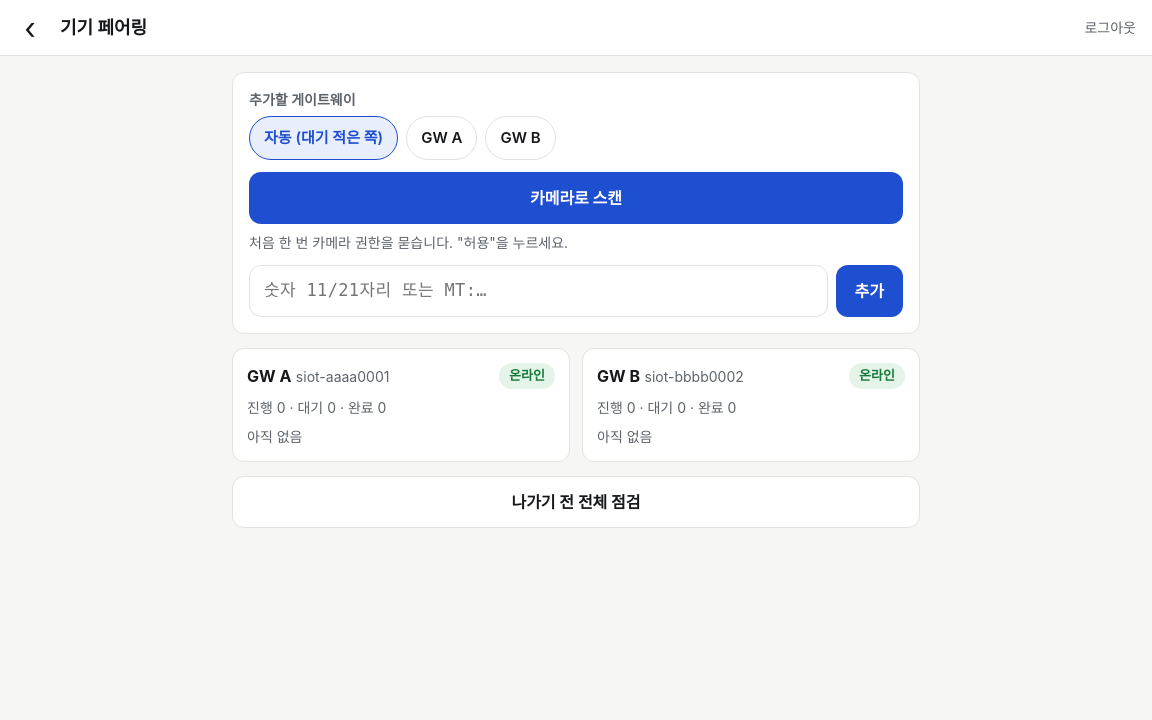
Scenario: 페어링 큐 (GW 별 직렬·GW 끼리 병렬, E2) › 같은 코드를 두 번 넣지 않는다
The image size is (1152, 720).
Expected: the element named "GW A 대기열" is shown, [232,348,570,462]
Type "34970112332" into the field named "기기 코드" at (538, 291), box [249,265,828,317]
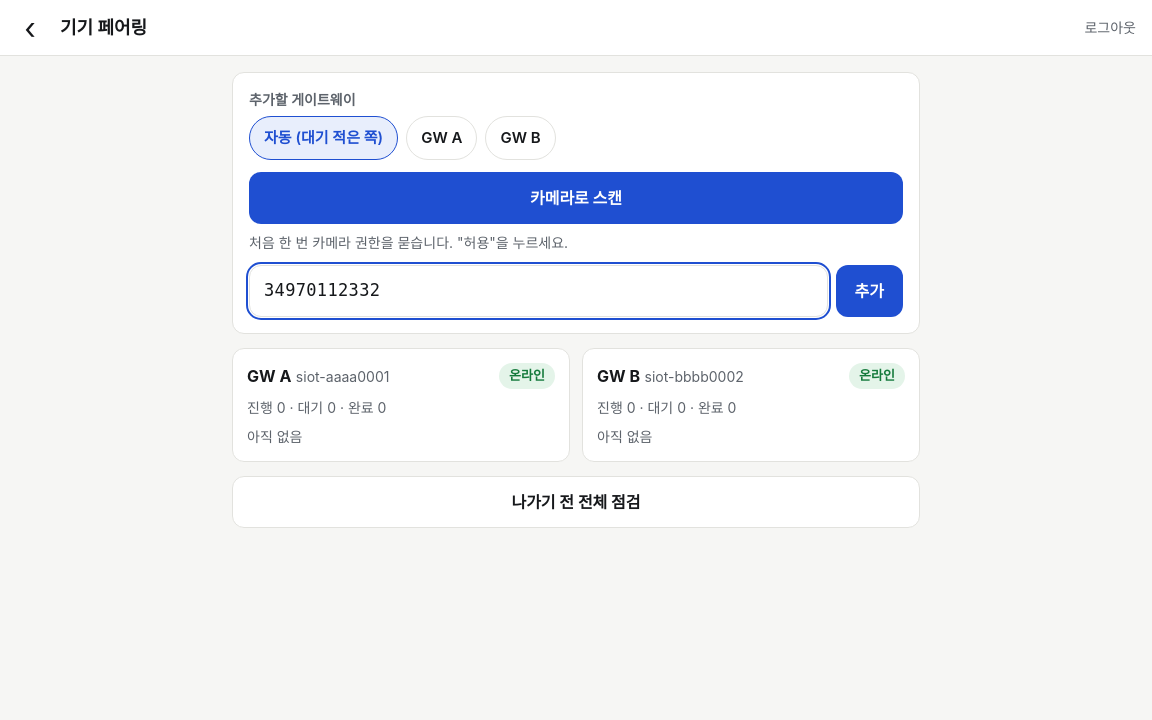
Click the button "추가" at (869, 291), box [836,265,903,317]
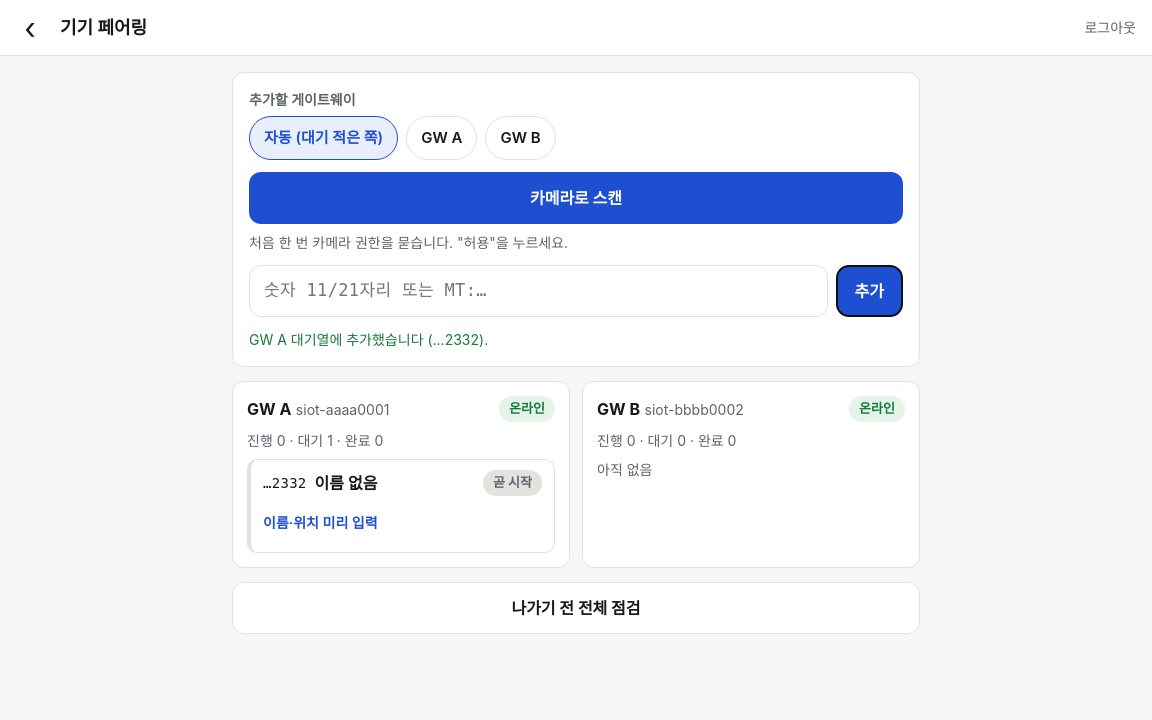
Expected: the text "GW A 대기열에 추가했습니다 (…2332)." is shown, [249,331,488,348]
Type "3497 011 2332" into the field named "기기 코드" at (538, 291), box [249,265,828,317]
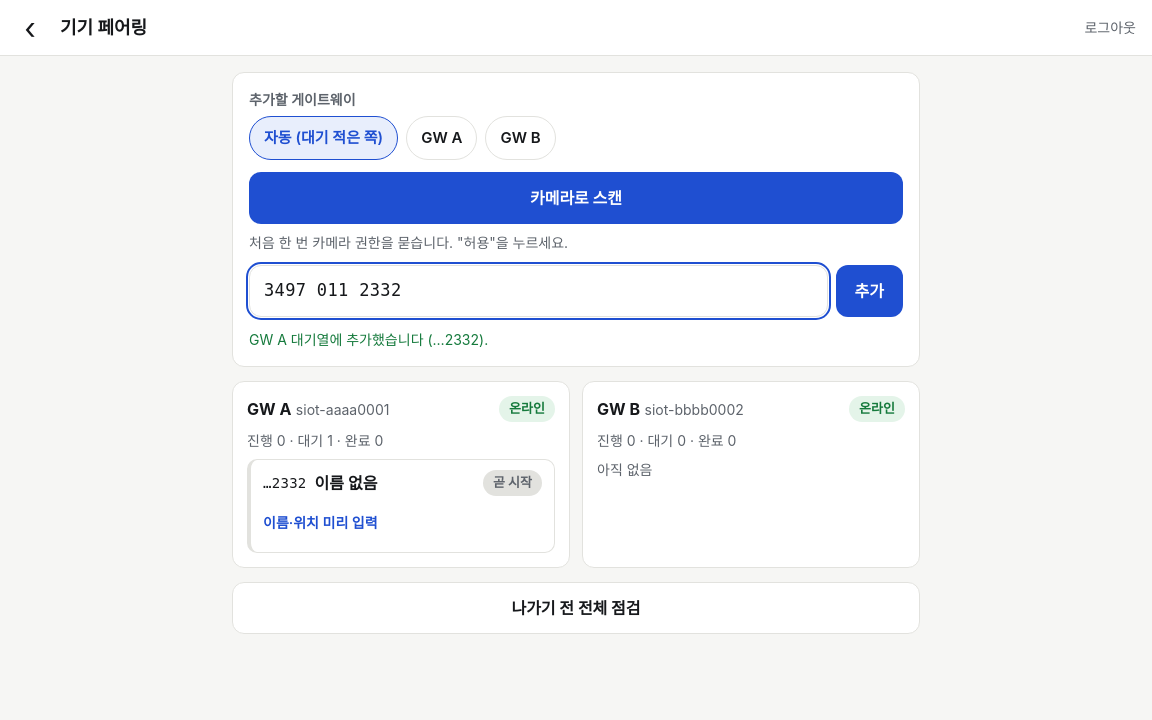
Click the button "추가" at (869, 291), box [836,265,903,317]
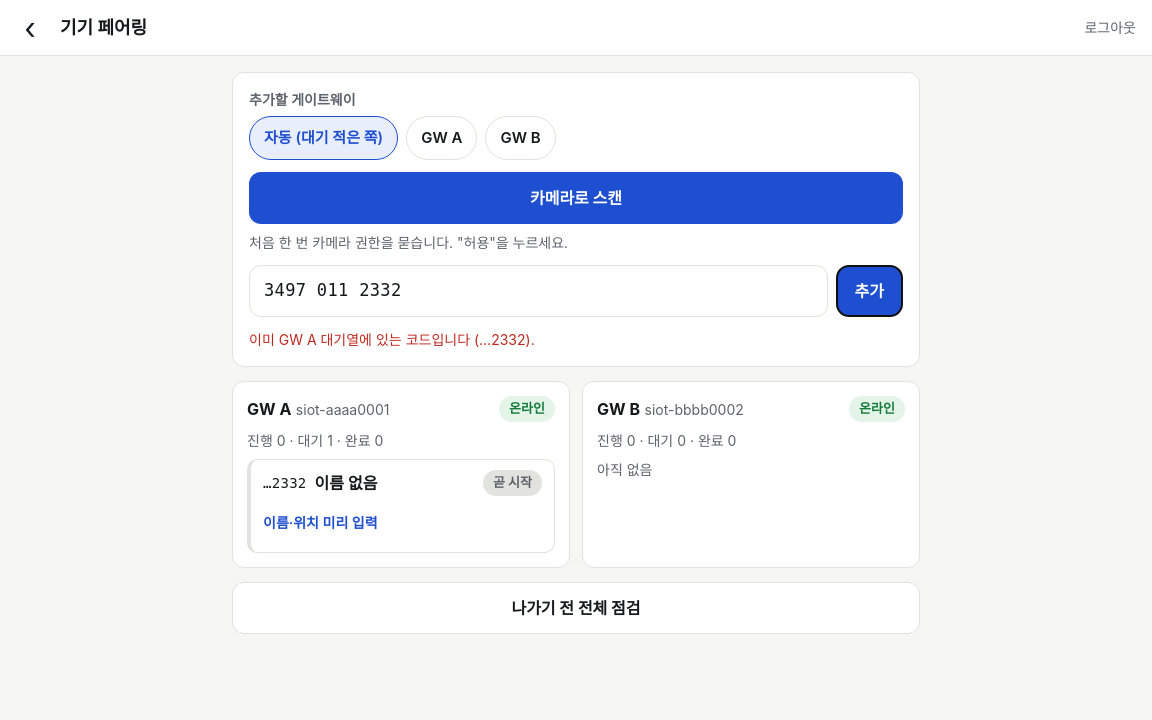
Expected: the text "이미 GW A 대기열에 있는 코드입니다 (…2332)." is shown, [249,331,535,348]
